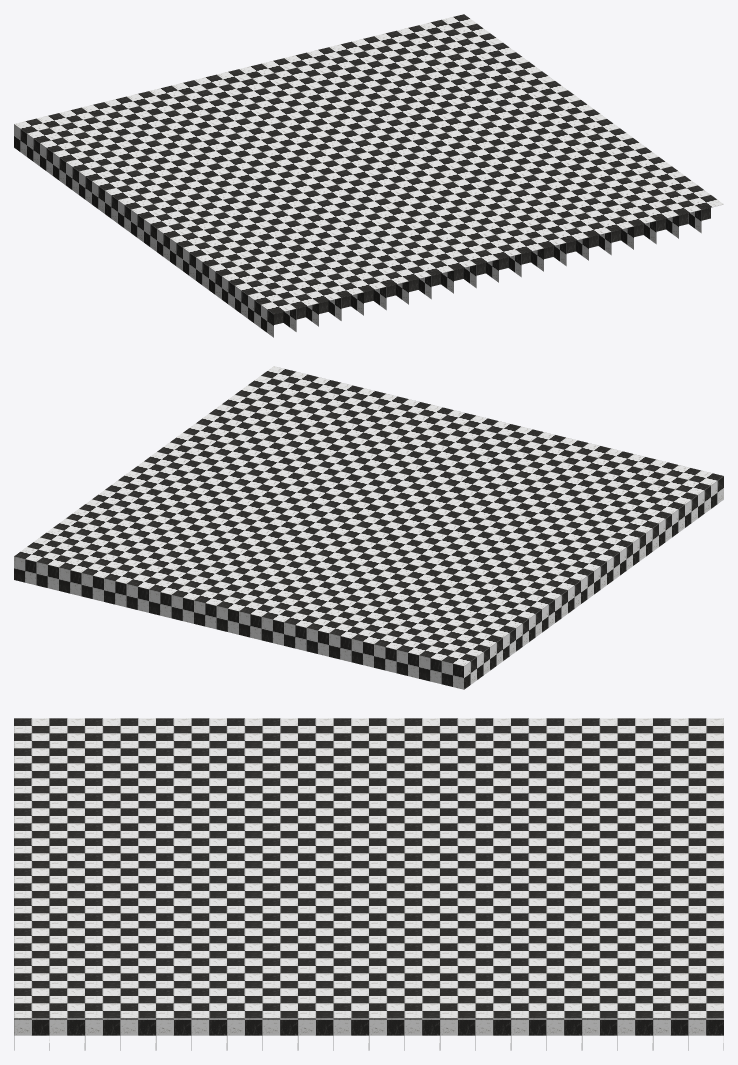
The model's file is tile_marble_check.dae.
3 views of the same model, one above another, from view 1: azimuth 30°, elevation 25°; view 2: azimuth 150°, elevation 25°; view 3: azimuth 270°, elevation 25° (orthographic). The views are drawn at different scales.
Parts seen in each view (by area): view 1: Cube; view 2: Cube; view 3: Cube.
Part boxes in pixels (x1=…): Cube: x1=14, y1=14, x2=723, y2=337; Cube: x1=14, y1=366, x2=723, y2=689; Cube: x1=14, y1=718, x2=723, y2=1050.
Bounding box in the file's own units: 40 × 40 × 2.
1 material, 1 textured.
